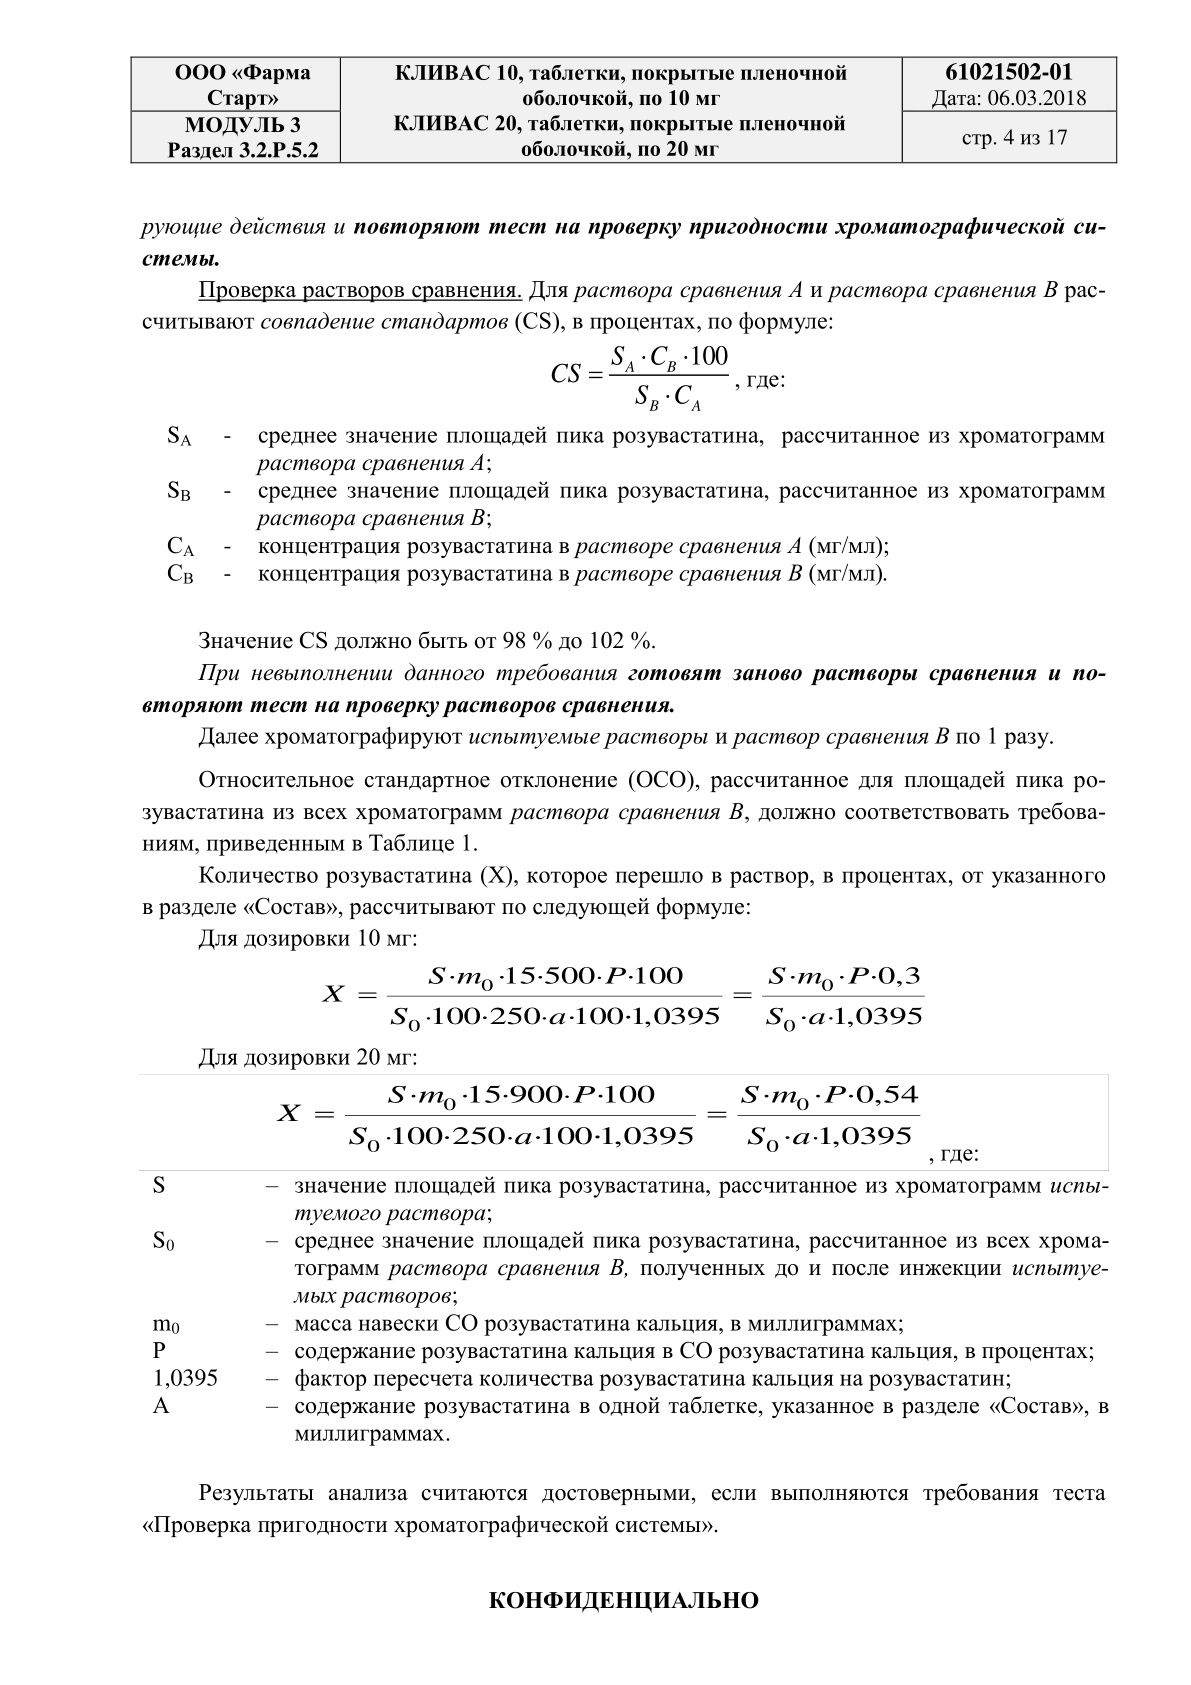merged_cells: (129, 55, 1118, 162)
